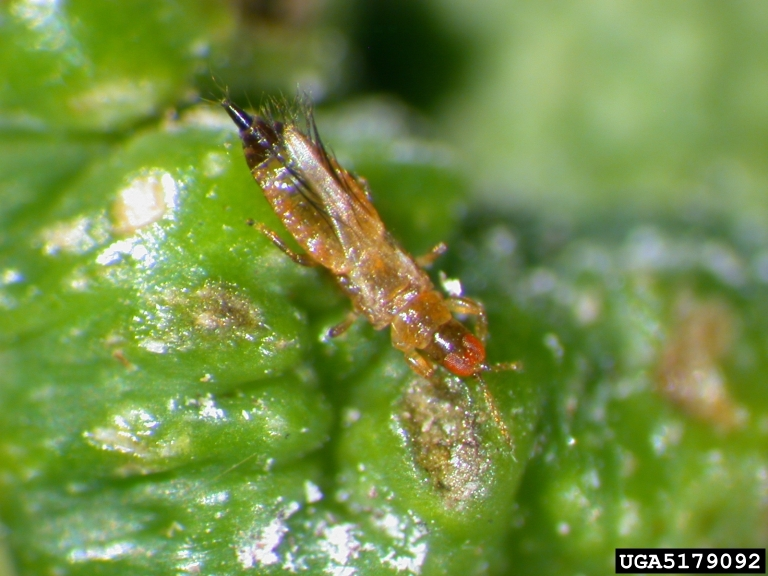Thrips: (208, 67, 542, 422)
